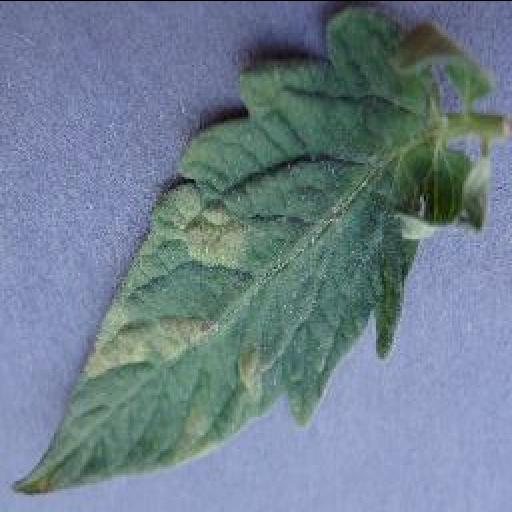disease_tomato: (10, 2, 492, 496)
